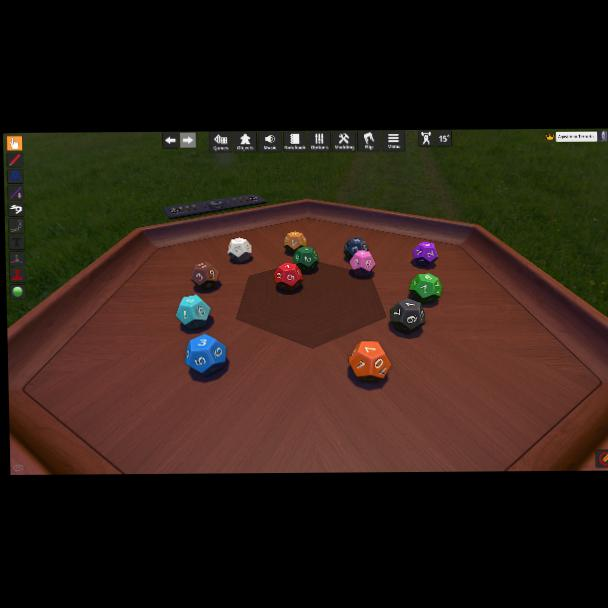d12: (348, 340, 391, 382), (185, 334, 229, 375), (390, 298, 426, 334), (176, 294, 212, 329), (409, 274, 442, 304), (190, 261, 220, 290), (274, 262, 303, 292), (412, 241, 439, 267), (350, 250, 376, 277), (293, 247, 319, 273), (228, 237, 253, 261), (343, 238, 368, 262), (284, 231, 307, 252)
